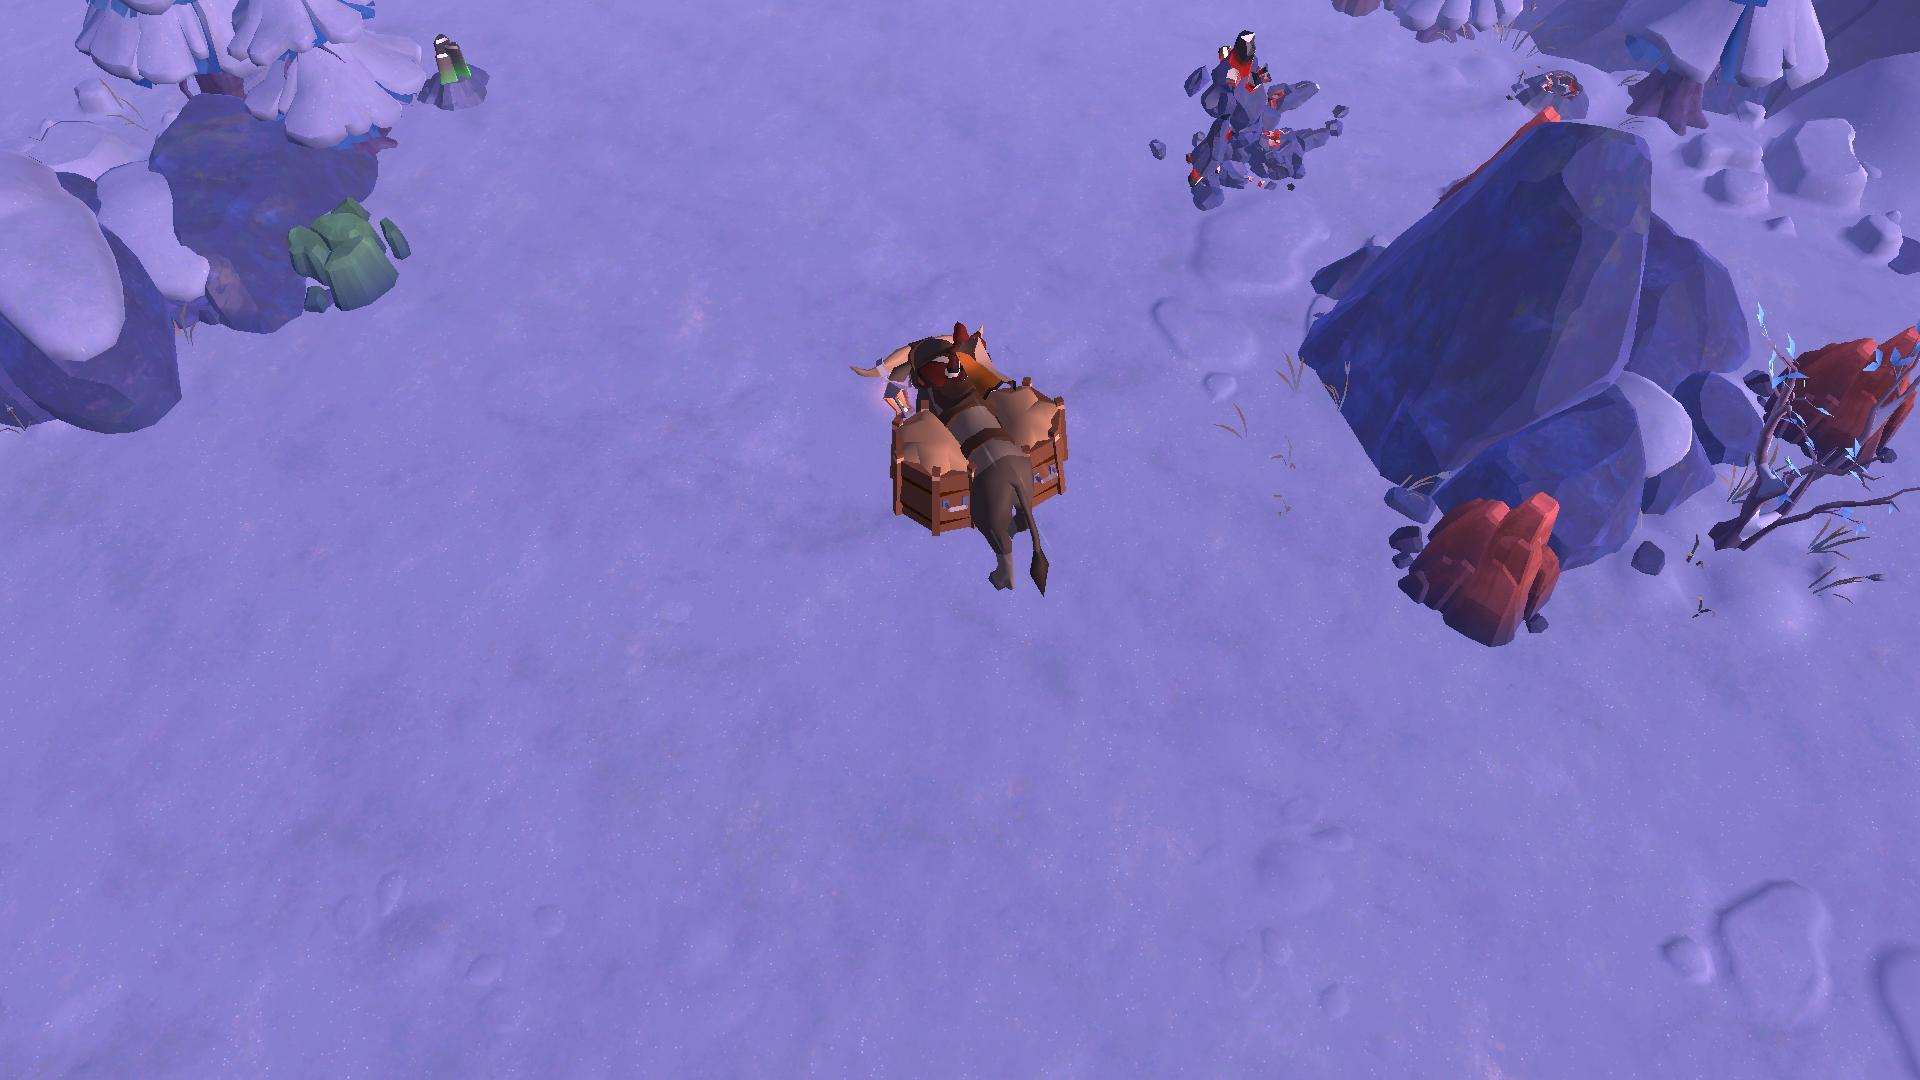ore_t3: (425, 32, 468, 86)
rock_t3: (280, 194, 413, 309)
rock_t5: (1390, 493, 1555, 651), (1772, 318, 1920, 467)
